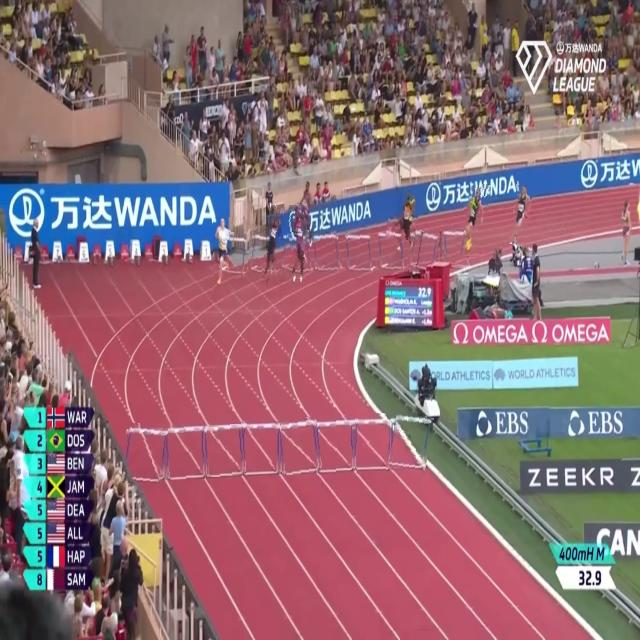athlete: (287, 203, 314, 285), (463, 183, 489, 258), (213, 218, 235, 292), (387, 193, 418, 241), (263, 206, 283, 280), (511, 182, 532, 245)
hurdle: (123, 423, 167, 484), (390, 414, 432, 474), (277, 417, 320, 474), (164, 423, 205, 480), (353, 413, 390, 474), (317, 416, 355, 475), (204, 424, 245, 477), (241, 422, 280, 473), (281, 228, 310, 276), (346, 230, 375, 277), (378, 232, 408, 274), (314, 231, 342, 275), (248, 232, 274, 277), (222, 233, 249, 276), (409, 230, 437, 271), (442, 230, 469, 268)
